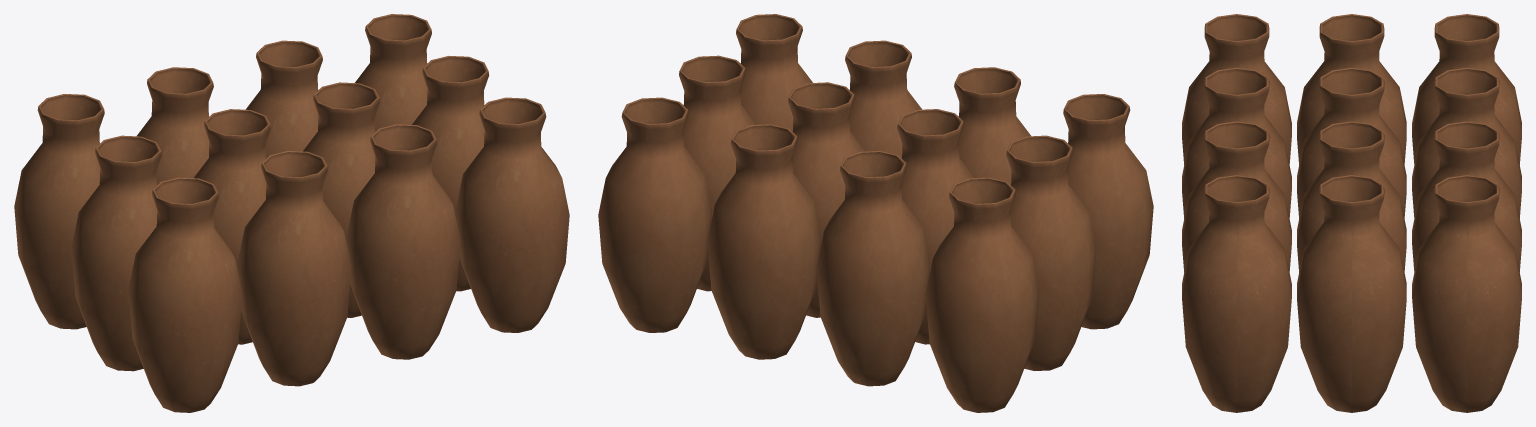
The model's file is PotteryJar5_Group.fbx.
The picture shows the model from 3 angles, left to right: view 1: azimuth 30°, elevation 25°; view 2: azimuth 150°, elevation 25°; view 3: azimuth 270°, elevation 25°; orthographic projection.
Visible parts, largest first — view 1: PotteryJar5_15, PotteryJar5_12, PotteryJar5_14, PotteryJar5_13, PotteryJar5_7, PotteryJar5_11, PotteryJar5_10, PotteryJar5_8, PotteryJar5_9, PotteryJar5_6, PotteryJar5_4, PotteryJar5_5; view 2: PotteryJar5_7, PotteryJar5_4, PotteryJar5_6, PotteryJar5_5, PotteryJar5_11, PotteryJar5_15, PotteryJar5_10, PotteryJar5_8, PotteryJar5_9, PotteryJar5_14, PotteryJar5_12, PotteryJar5_13; view 3: PotteryJar5_12, PotteryJar5_8, PotteryJar5_4, PotteryJar5_13, PotteryJar5_9, PotteryJar5_5, PotteryJar5_11, PotteryJar5_10, PotteryJar5_15, PotteryJar5_14, PotteryJar5_7, PotteryJar5_6.
Part boxes in pixels (bbox=[...]): PotteryJar5_15: bbox=[128, 177, 242, 412]; PotteryJar5_12: bbox=[455, 97, 569, 332]; PotteryJar5_14: bbox=[237, 151, 351, 386]; PotteryJar5_13: bbox=[346, 124, 460, 359]; PotteryJar5_7: bbox=[14, 94, 104, 329]; PotteryJar5_11: bbox=[71, 135, 161, 371]; PotteryJar5_10: bbox=[194, 109, 270, 344]; PotteryJar5_8: bbox=[412, 56, 489, 291]; PotteryJar5_9: bbox=[303, 82, 379, 317]; PotteryJar5_6: bbox=[137, 67, 213, 184]; PotteryJar5_4: bbox=[355, 14, 431, 131]; PotteryJar5_5: bbox=[246, 40, 322, 157]; PotteryJar5_7: bbox=[925, 177, 1039, 412]; PotteryJar5_4: bbox=[598, 97, 712, 332]; PotteryJar5_6: bbox=[816, 151, 930, 386]; PotteryJar5_5: bbox=[707, 124, 821, 359]; PotteryJar5_11: bbox=[1006, 135, 1096, 370]; PotteryJar5_15: bbox=[1063, 94, 1153, 329]; PotteryJar5_10: bbox=[897, 109, 973, 344]; PotteryJar5_8: bbox=[679, 55, 755, 291]; PotteryJar5_9: bbox=[788, 82, 864, 317]; PotteryJar5_14: bbox=[954, 67, 1030, 184]; PotteryJar5_12: bbox=[736, 14, 812, 131]; PotteryJar5_13: bbox=[845, 40, 921, 158]; PotteryJar5_12: bbox=[1182, 175, 1291, 412]; PotteryJar5_8: bbox=[1297, 175, 1406, 412]; PotteryJar5_4: bbox=[1412, 175, 1521, 412]; PotteryJar5_13: bbox=[1182, 121, 1291, 272]; PotteryJar5_9: bbox=[1297, 121, 1406, 272]; PotteryJar5_5: bbox=[1412, 121, 1521, 272]; PotteryJar5_11: bbox=[1297, 14, 1406, 164]; PotteryJar5_10: bbox=[1297, 67, 1406, 218]; PotteryJar5_15: bbox=[1182, 14, 1291, 164]; PotteryJar5_14: bbox=[1182, 67, 1291, 218]; PotteryJar5_7: bbox=[1412, 14, 1521, 164]; PotteryJar5_6: bbox=[1412, 67, 1521, 218].
Bounding box in the file's own units: 45.31 × 21.58 × 31.03.
